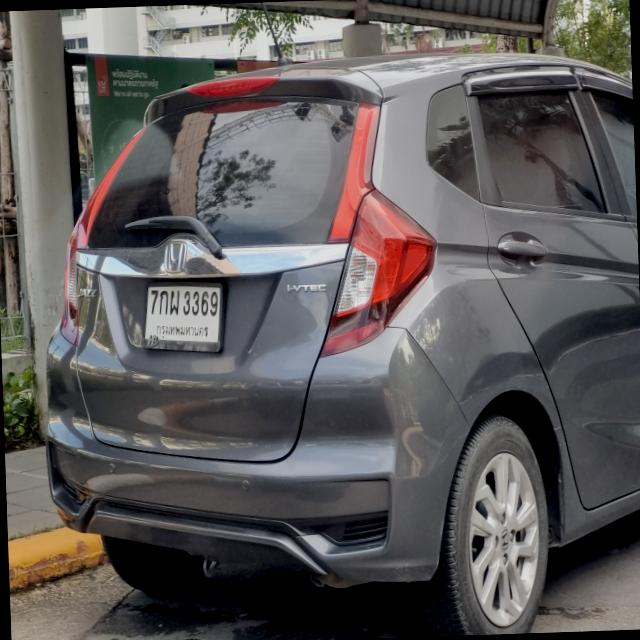license_plate: (139, 270, 226, 352)
